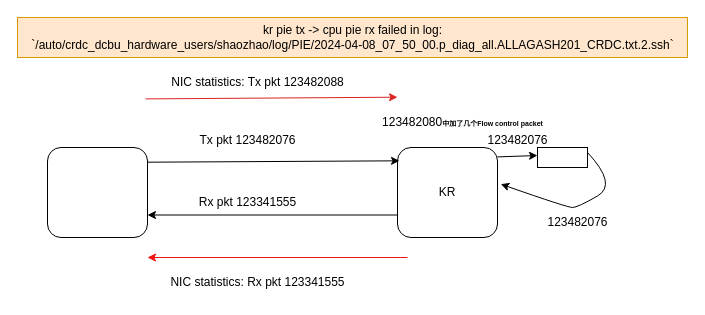
Some shapes in this 705 by 315 pixel diagram are drawn without their labels. The shapes that lost their labels are listed below. From the top down, each one's box as (x1, y1, x2, y2) in pixels, then its label:
(536, 146, 588, 168): FP0
(46, 146, 148, 238): CPU
